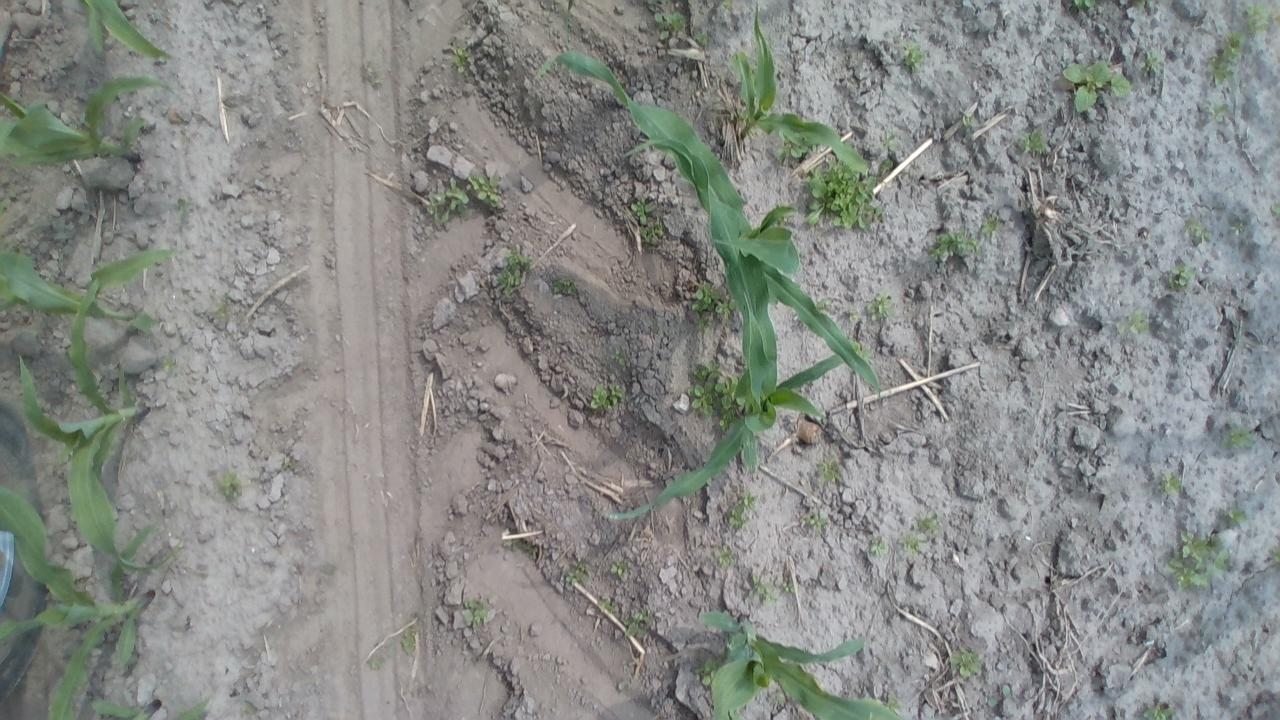Maize: (526, 49, 882, 421), (602, 194, 854, 528), (15, 249, 162, 583), (0, 479, 159, 705), (736, 6, 866, 175), (696, 609, 891, 720), (0, 243, 188, 338), (1, 71, 168, 170), (74, 0, 174, 65), (79, 684, 216, 720), (557, 1, 583, 28)
Weeds: (801, 154, 887, 231), (1165, 528, 1230, 592), (1061, 60, 1131, 116), (688, 279, 736, 331), (690, 367, 736, 419), (424, 176, 471, 223), (1207, 31, 1245, 88), (495, 244, 534, 296), (924, 228, 978, 262), (587, 380, 628, 415), (468, 170, 504, 208), (653, 9, 689, 42), (562, 555, 596, 588), (777, 134, 813, 164), (1220, 421, 1257, 450), (745, 572, 777, 605), (625, 606, 657, 639), (950, 647, 984, 678), (1244, 2, 1274, 36), (462, 597, 493, 628), (1182, 217, 1212, 246), (726, 498, 756, 527), (218, 470, 246, 501), (694, 656, 721, 688), (815, 456, 845, 484), (1122, 308, 1150, 337), (1166, 262, 1196, 289), (1020, 128, 1050, 154), (1138, 702, 1180, 720), (901, 40, 926, 70), (730, 491, 757, 518), (1158, 469, 1184, 496), (630, 197, 656, 224), (1222, 503, 1250, 528), (868, 292, 893, 320), (801, 510, 830, 532), (911, 514, 942, 534), (988, 684, 1013, 708), (641, 222, 665, 247), (450, 46, 472, 73), (1140, 51, 1163, 76), (400, 626, 417, 658), (898, 534, 922, 556), (867, 534, 889, 557), (1209, 102, 1231, 125), (713, 546, 738, 566), (552, 276, 577, 296), (980, 214, 1000, 238), (214, 294, 230, 320), (596, 594, 616, 614), (884, 693, 903, 713), (520, 538, 540, 557), (851, 340, 872, 358), (882, 132, 899, 154), (609, 560, 628, 578), (880, 156, 899, 172), (162, 354, 178, 373), (612, 346, 628, 364), (1072, 1, 1098, 12), (616, 678, 636, 692), (1229, 220, 1245, 237), (694, 30, 710, 46), (960, 116, 976, 132), (780, 579, 795, 596), (368, 656, 386, 670), (240, 701, 256, 716), (815, 298, 830, 314), (845, 308, 860, 324), (772, 692, 786, 707), (717, 0, 733, 13)
